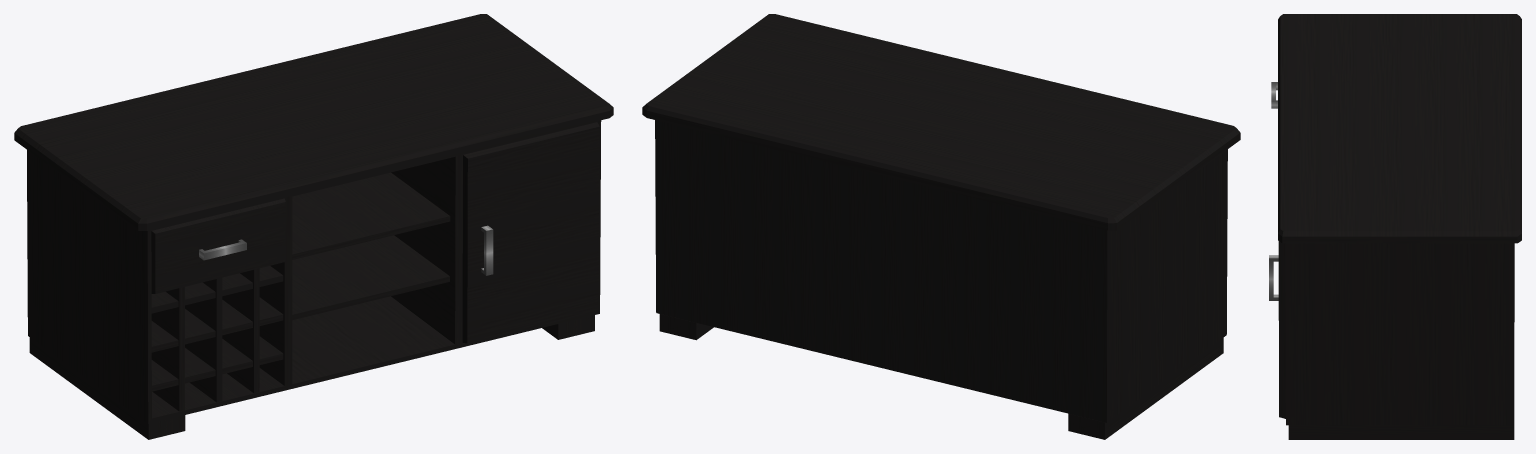
Rendered from Buffet_A.FBX.
The picture shows the model from 3 angles, left to right: view 1: azimuth 30°, elevation 25°; view 2: azimuth 150°, elevation 25°; view 3: azimuth 270°, elevation 25°; orthographic projection. The views are drawn at different scales.
Parts seen in each view (by area): view 1: Buffet; view 2: Buffet; view 3: Buffet.
Boxes of the visible parts, x1,y1,x2,y2 form: Buffet: (14,14,613,439); Buffet: (642,14,1240,439); Buffet: (1269,14,1521,439).
Size of the model in its own units: 338 by 153 by 164.
